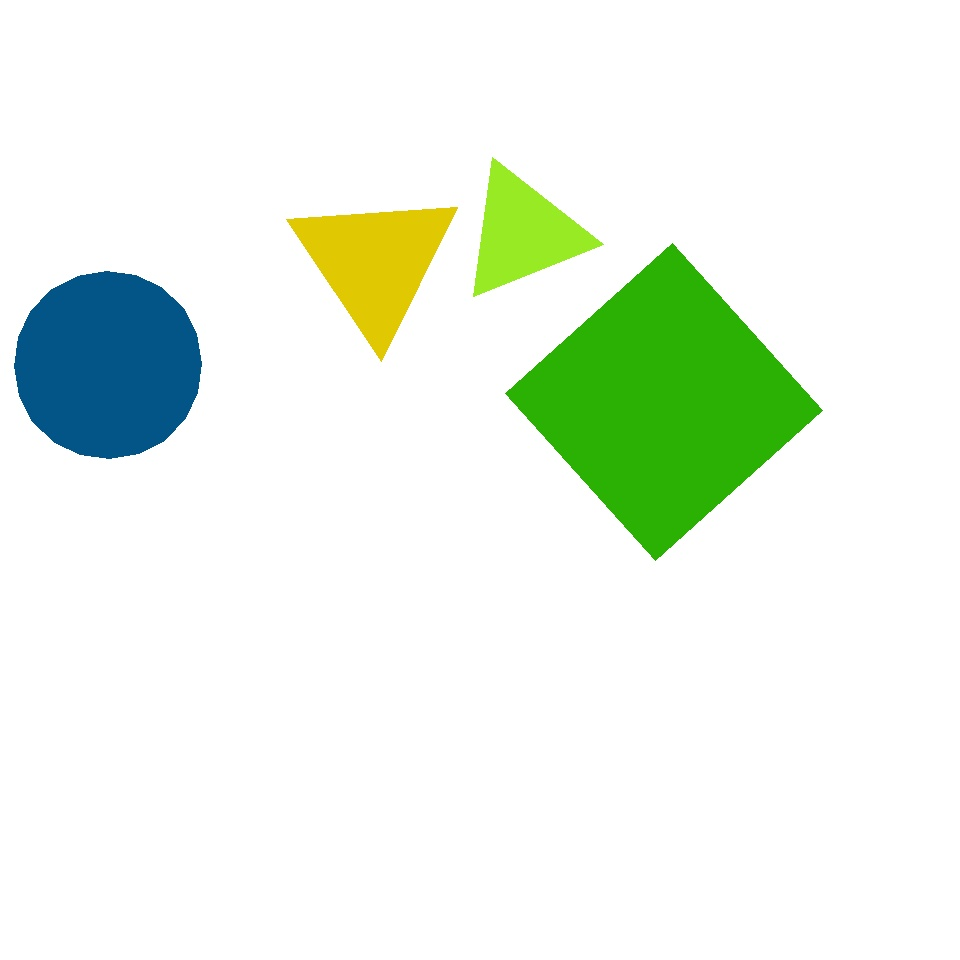circle: (290, 186, 460, 340), (458, 163, 588, 302)
square: (506, 244, 822, 560), (372, 280, 686, 594)
triangle: (15, 271, 202, 458), (296, 344, 416, 464)
